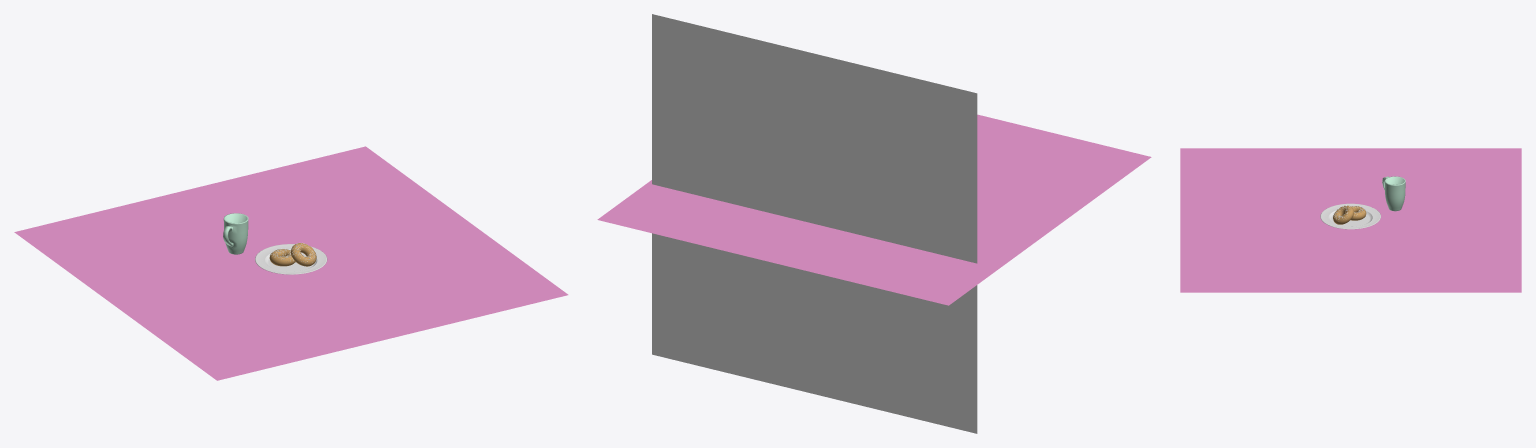
File: donut.glb
The picture shows the model from 3 angles, left to right: view 1: azimuth 30°, elevation 25°; view 2: azimuth 150°, elevation 25°; view 3: azimuth 270°, elevation 25°; orthographic projection. The views are drawn at different scales.
Parts seen in each view (by area): view 1: Plane, Cylinder.002, Cylinder; view 2: Plane.001, Plane; view 3: Plane, Cylinder.002, Cylinder.
Part boxes in pixels (x1,y1,x2,y2): Plane: (14, 146, 568, 380); Cylinder.002: (255, 244, 327, 274); Cylinder: (223, 213, 248, 254); Plane.001: (652, 14, 977, 433); Plane: (597, 114, 1151, 305); Plane: (1180, 148, 1521, 292); Cylinder.002: (1320, 203, 1380, 229); Cylinder: (1382, 176, 1405, 211).
Bounding box in the file's own units: 45.54 × 42.14 × 45.54.
